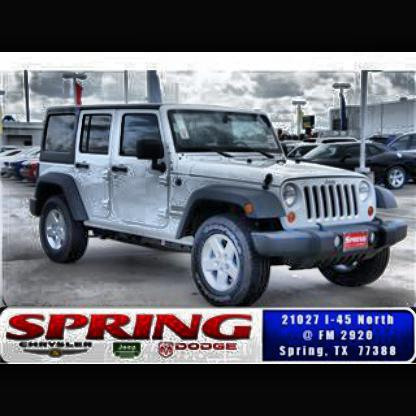Jeep Wrangler SUV 2012: (29, 100, 416, 310)
